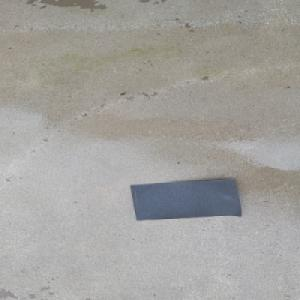PaintChip: (129, 178, 242, 221)
